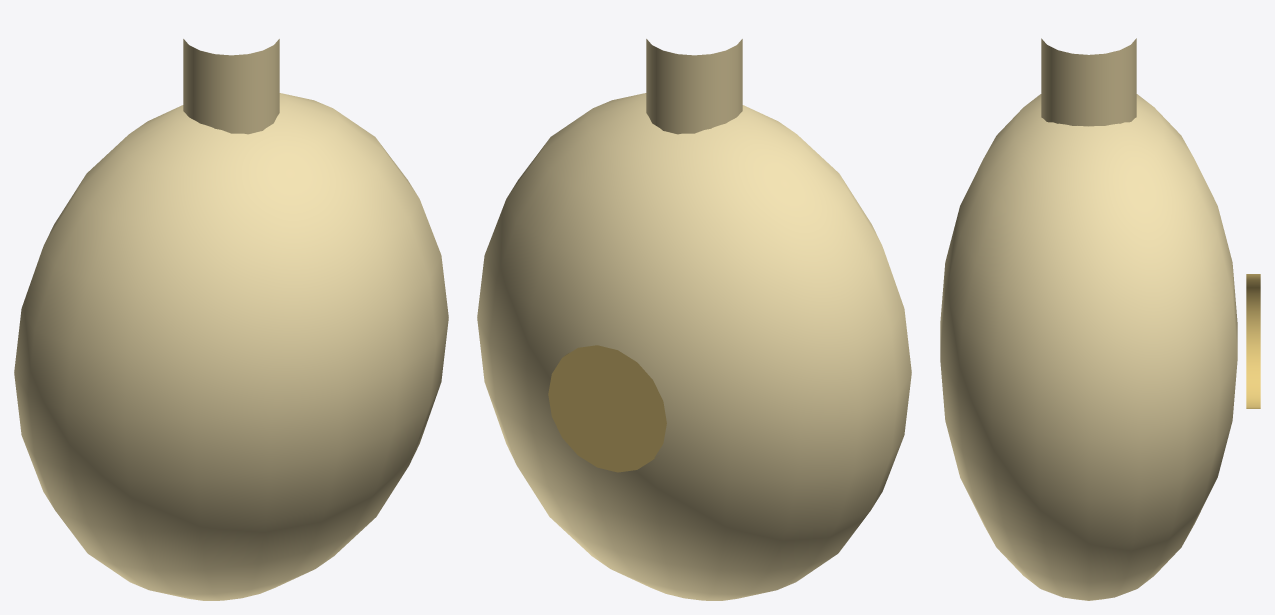
Rendered from money-bag.glb.
3 views of the same model, side by side, from view 1: azimuth 30°, elevation 25°; view 2: azimuth 150°, elevation 25°; view 3: azimuth 270°, elevation 25° (orthographic).
Visible parts, largest first — view 1: money-bag; view 2: money-bag; view 3: money-bag.
Boxes of the visible parts, x1,y1,x2,y2 form: money-bag: (14, 39, 448, 600); money-bag: (477, 39, 911, 600); money-bag: (940, 38, 1260, 600).
Bounding box in the file's own units: 0.48 × 0.626 × 0.3311.
